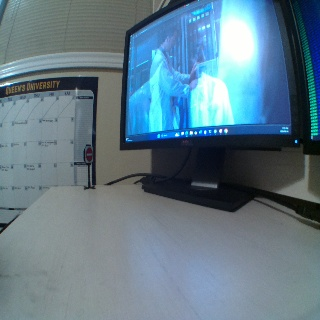sign_noentry: (83, 144, 94, 162)
